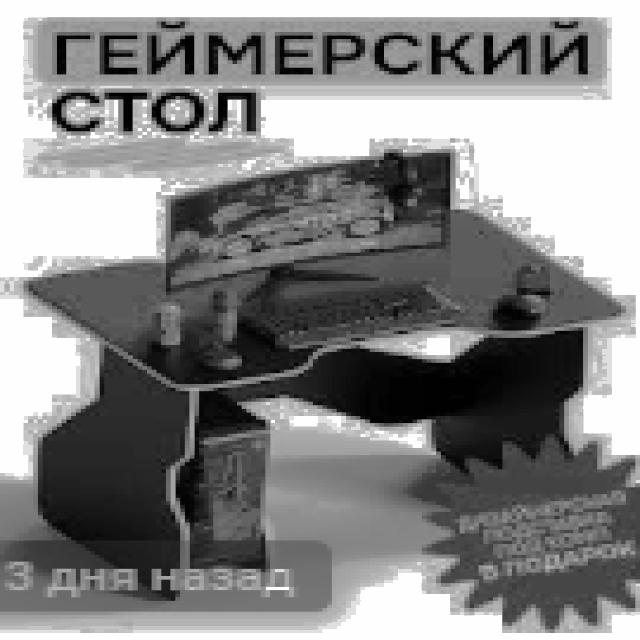table: (19, 206, 626, 594)
